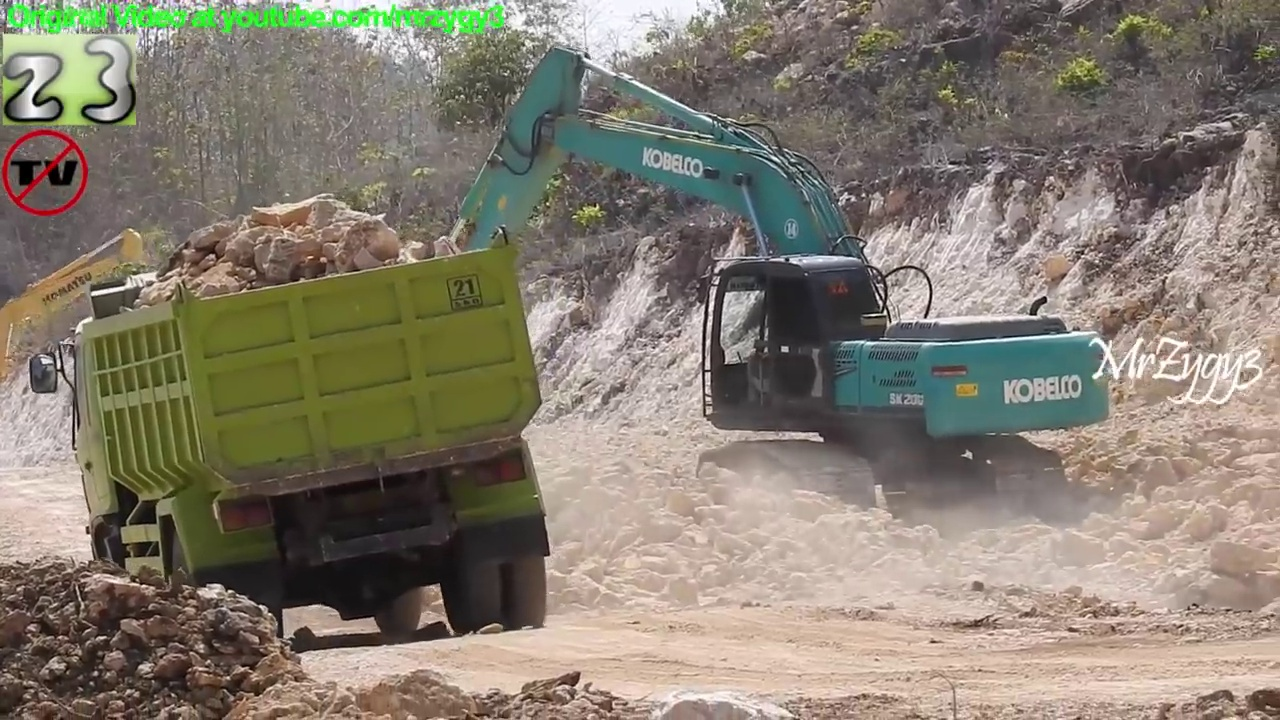excavator: (412, 40, 1122, 541), (1, 222, 160, 390)
truck: (23, 220, 567, 662)
